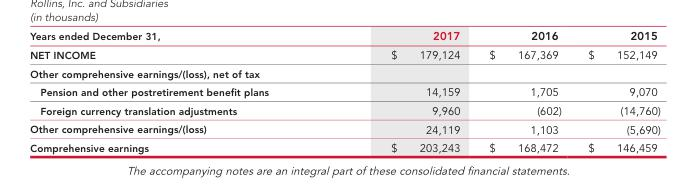table: (29, 28, 659, 154)
table column: (29, 28, 329, 154), (329, 28, 473, 154), (473, 28, 574, 154), (574, 28, 659, 154)
table column header: (29, 28, 659, 45)
table projected row header: (29, 64, 659, 82)
table row: (29, 45, 659, 64), (29, 82, 659, 101), (29, 119, 659, 138), (29, 64, 659, 82), (29, 101, 659, 119), (29, 28, 659, 45), (29, 138, 659, 154)
